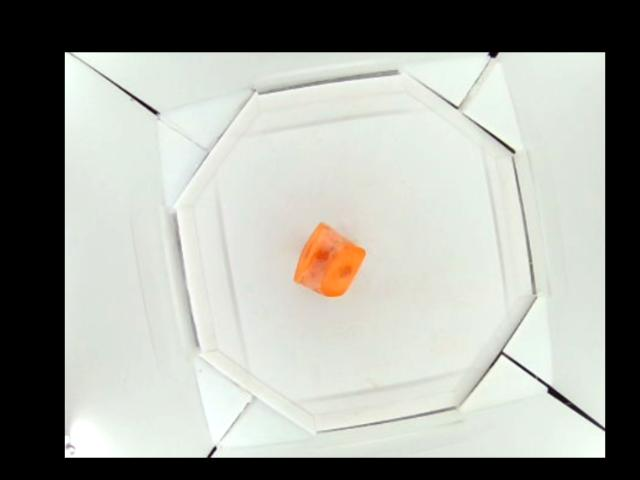Carrot: (295, 223, 365, 297)
